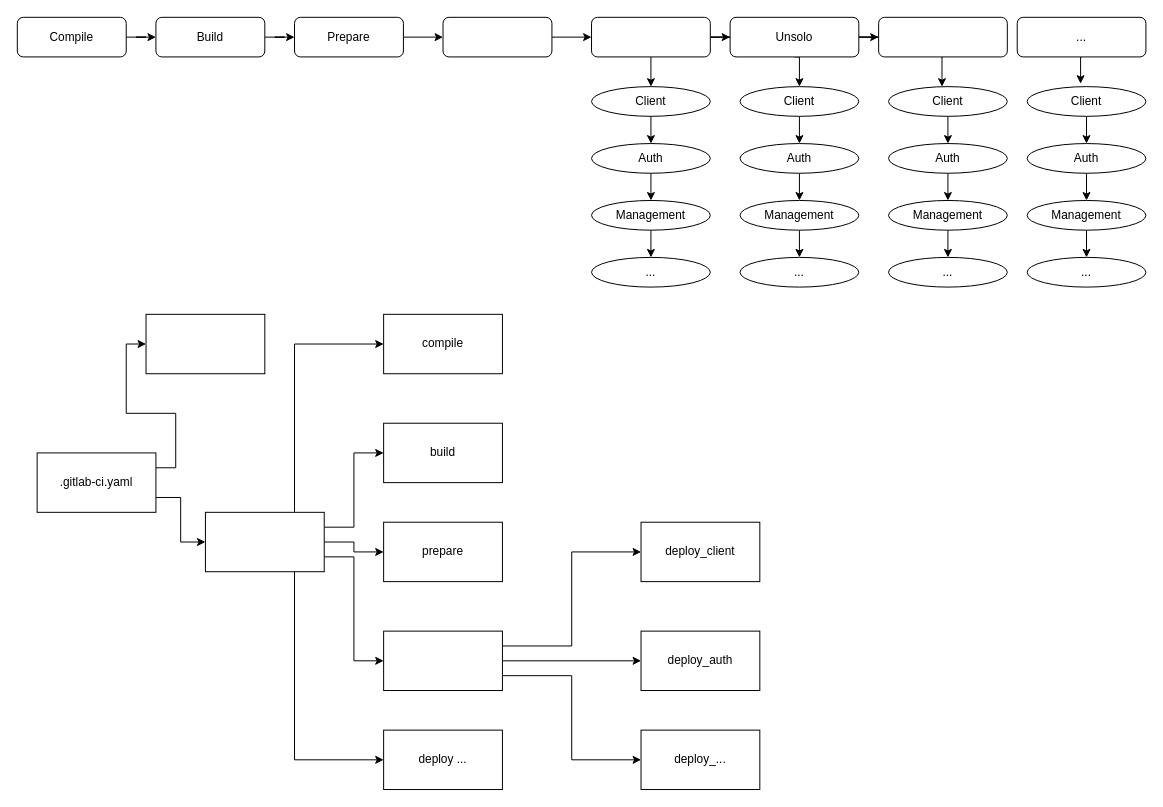
The diagram is 1163 pixels wide and 807 high, and some of its shapes have lost their labels. The shapes that lost their labels are listed below. From the top down, each one's centre as x and y in pixels, then its label:
At point 497,36: "Test".
At point 650,36: "Losolo".
At point 942,36: "Prod".
At point 205,343: "test.yaml".
At point 264,541: "all.yaml".
At point 442,660: "deploy_losolo".
